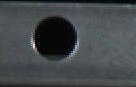holes: (31, 13, 78, 61)
